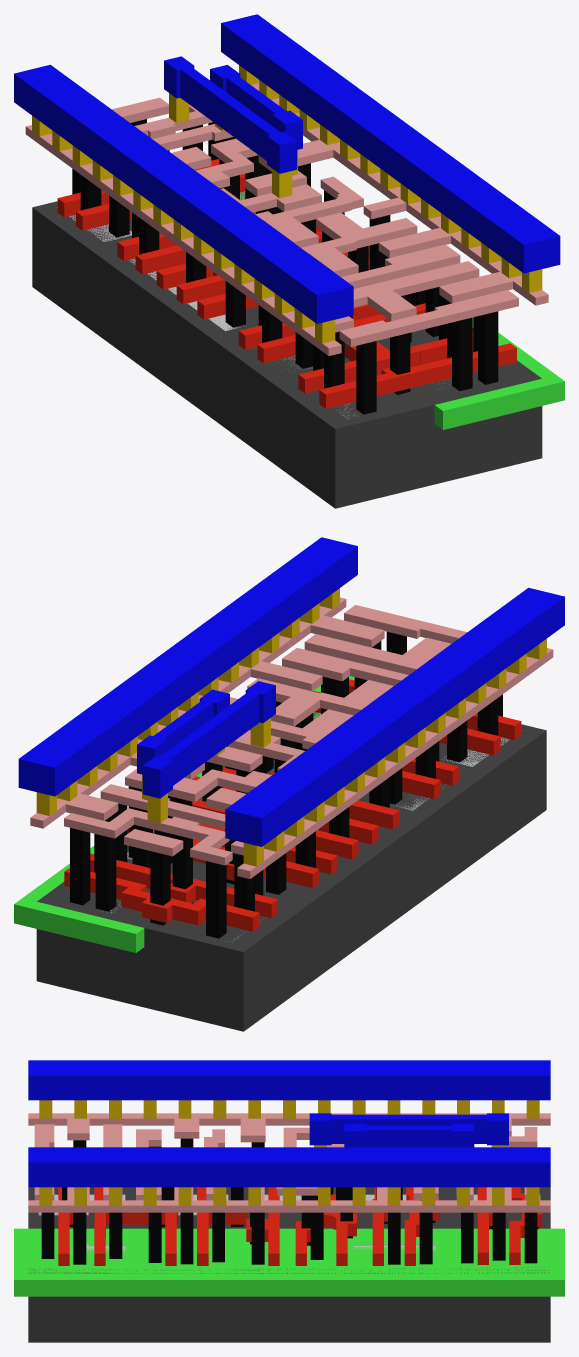
File: sky130_fd_sc_hd__dlxbn_1.obj
3 views of the same model, one above another, from view 1: azimuth 30°, elevation 25°; view 2: azimuth 150°, elevation 25°; view 3: azimuth 270°, elevation 25° (orthographic). The views are drawn at different scales.
Visible parts, largest first — view 1: metal1, subs, li, licon, poly, mcon, nwell, diff; view 2: metal1, subs, li, licon, poly, mcon, nwell; view 3: metal1, subs, nwell, li, licon, poly, mcon, diff.
Boxes of the visible parts, x1,y1,x2,y2 form: metal1: [14, 14, 560, 323]; subs: [32, 191, 542, 508]; li: [25, 83, 548, 355]; licon: [72, 119, 498, 414]; poly: [57, 159, 516, 408]; mcon: [32, 65, 542, 343]; nwell: [240, 191, 564, 429]; diff: [57, 207, 358, 418]; metal1: [18, 537, 564, 846]; subs: [36, 712, 546, 1031]; li: [30, 597, 553, 878]; licon: [70, 631, 502, 938]; poly: [64, 679, 521, 931]; mcon: [36, 588, 546, 866]; nwell: [14, 676, 354, 952]; metal1: [28, 1060, 550, 1187]; subs: [28, 1187, 550, 1342]; nwell: [14, 1228, 564, 1296]; li: [28, 1113, 550, 1212]; licon: [41, 1138, 538, 1264]; poly: [58, 1187, 542, 1265]; mcon: [39, 1100, 539, 1205]; diff: [38, 1194, 540, 1215].
Bounding box in the file's own units: 3.2 × 2.74 × 7.28.
